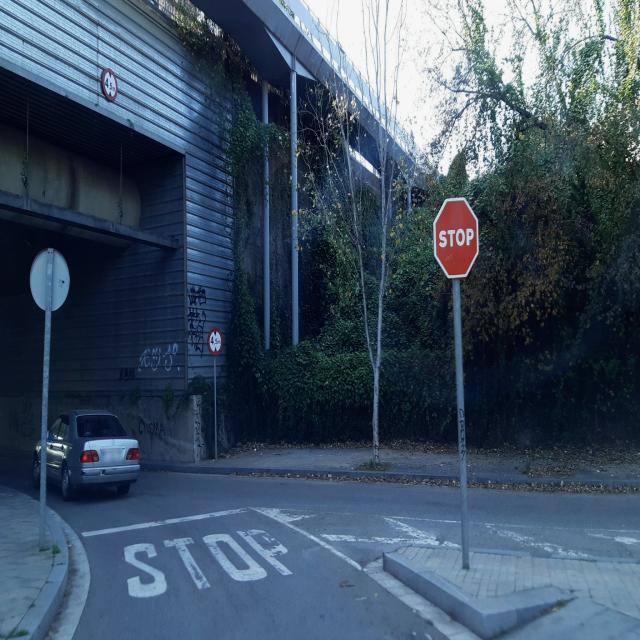car: (31, 407, 140, 501)
